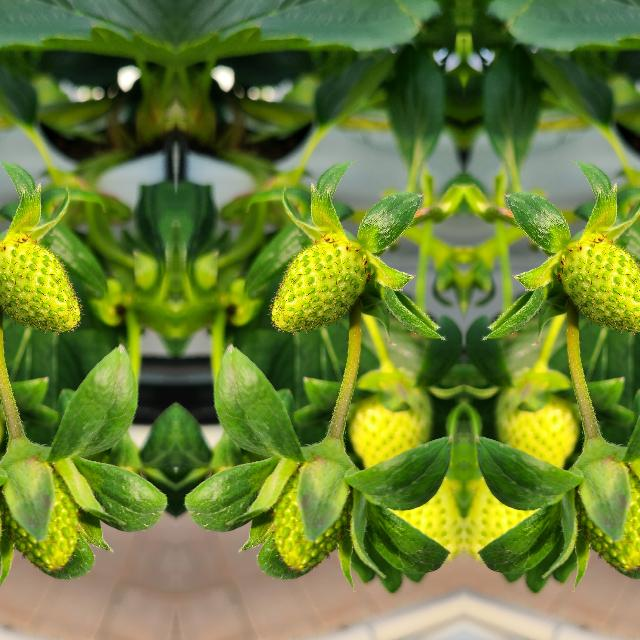Health_25: (270, 242, 364, 330), (0, 242, 80, 330), (562, 242, 640, 330)
